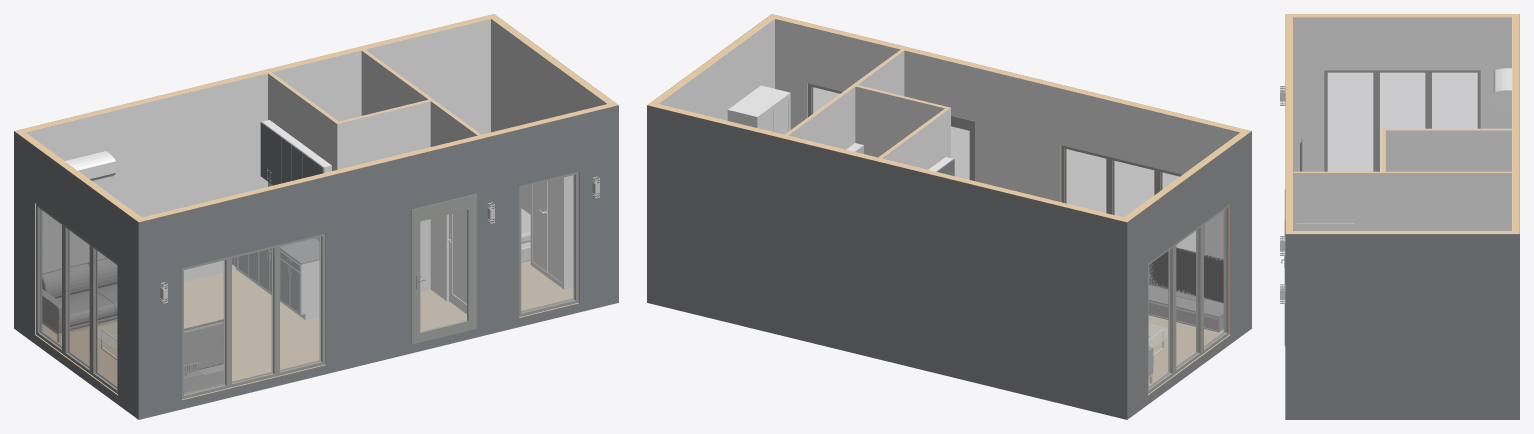
Rendered from Autoramanas_(3,6x8,0m).fbx.
3 views of the same model, side by side, from view 1: azimuth 30°, elevation 25°; view 2: azimuth 150°, elevation 25°; view 3: azimuth 270°, elevation 25° (orthographic). The views are drawn at different scales.
Parts seen in each view (by area): view 1: IfcWall/Part:2319977, IfcWall/Part:2319982, IfcWindow/Aluprof_MB-86-SI_E_Alu_Window-1sash-FIX_ENG_R-000. (×5), IfcWall/Part:2368366, IfcSlab/Part:2319985, IfcDoor/Simple_vitree_-_03:1000x2100:2303655, IfcWall/Part:2319979, IfcWindow/Aluprof_MB-86-SI_E_Alu_Window-1sash-FIX_ENG_R-0004, IfcWindow/Aluprof_MB-86-SI_E_Alu_Window-1sash-FIX_ENG_R-000, IfcWall/Part:2319970, IfcFurnishingElement/Cabinet_-_Storage:960 x 500 x 2100mm:23, IfcFurnishingElement/Bolia - North Seater Sofa:2 1/2 Seater: (+18 smaller); view 2: IfcWall/Part:2319983, IfcWall/Part:2319976, IfcWall/Part:2368366, IfcWindow/Aluprof_MB-86-SI_E_Alu_Window-1sash-FIX_ENG_R-000. (×5), IfcWall/Part:2319979, IfcWall/Part:2319971, IfcWindow/Aluprof_MB-86-SI_E_Alu_Window-1sash-FIX_ENG_R-000, IfcBuildingElementProxy/TV Sony1:TV Sony 2:2368411, IfcWindow/Aluprof_MB-86-SI_E_Alu_Window-1sash-FIX_ENG_R-0004, IfcWall/Part:2321861, IfcFurnishingElement/Cabinet_-_Storage:960 x 500 x 2100mm:23, IfcWall/Part:2319978 (+8 smaller); view 3: IfcWall/Part:2319980, IfcWall/Part:2368365, IfcWall/Part:2319967, IfcWindow/Aluprof_MB-86-SI_E_Alu_Window-1sash-FIX_ENG_R-000. (×3), IfcWall/Part:2321693, IfcWall/Part:2319984, IfcWall/Part:2319978, IfcWall/Part:2368367, IfcEnergyConversionDevice/Fujitsu General_ASUA30-36TLAV2:ASU, IfcWall/Part:2319981, IfcDoor/Simple_vitree_-_03:800x2100mm:2324605, IfcWall/Part:2319969 (+3 smaller).
Part boxes in pixels (left/top/right/bottom): IfcWall/Part:2319977: left=138, top=105, right=618, bottom=419; IfcWall/Part:2319982: left=26, top=18, right=490, bottom=281; IfcWindow/Aluprof_MB-86-SI_E_Alu_Window-1sash-FIX_ENG_R-000. (×5): left=36, top=171, right=578, bottom=399; IfcWall/Part:2368366: left=14, top=131, right=138, bottom=419; IfcSlab/Part:2319985: left=42, top=261, right=572, bottom=385; IfcDoor/Simple_vitree_-_03:1000x2100:2303655: left=411, top=193, right=476, bottom=344; IfcWall/Part:2319979: left=491, top=18, right=607, bottom=214; IfcWindow/Aluprof_MB-86-SI_E_Alu_Window-1sash-FIX_ENG_R-0004: left=228, top=245, right=277, bottom=387; IfcWindow/Aluprof_MB-86-SI_E_Alu_Window-1sash-FIX_ENG_R-000: left=276, top=233, right=325, bottom=376; IfcWall/Part:2319970: left=337, top=101, right=430, bottom=291; IfcFurnishingElement/Cabinet_-_Storage:960 x 500 x 2100mm:23: left=530, top=175, right=572, bottom=289; IfcFurnishingElement/Bolia - North Seater Sofa:2 1/2 Seater:: left=42, top=258, right=117, bottom=342; IfcWall/Part:2319983: left=647, top=105, right=1127, bottom=419; IfcWall/Part:2319976: left=775, top=18, right=1239, bottom=258; IfcWall/Part:2368366: left=1127, top=131, right=1251, bottom=419; IfcWindow/Aluprof_MB-86-SI_E_Alu_Window-1sash-FIX_ENG_R-000. (×5): left=808, top=83, right=1229, bottom=393; IfcWall/Part:2319979: left=658, top=18, right=774, bottom=120; IfcWall/Part:2319971: left=855, top=86, right=944, bottom=157; IfcWindow/Aluprof_MB-86-SI_E_Alu_Window-1sash-FIX_ENG_R-000: left=1061, top=145, right=1109, bottom=213; IfcBuildingElementProxy/TV Sony1:TV Sony 2:2368411: left=1148, top=247, right=1223, bottom=302; IfcWindow/Aluprof_MB-86-SI_E_Alu_Window-1sash-FIX_ENG_R-0004: left=1108, top=156, right=1156, bottom=217; IfcWall/Part:2321861: left=788, top=86, right=855, bottom=149; IfcFurnishingElement/Cabinet_-_Storage:960 x 500 x 2100mm:23: left=727, top=85, right=790, bottom=134; IfcWall/Part:2319978: left=775, top=16, right=1250, bottom=201; IfcWall/Part:2319980: left=1285, top=234, right=1519, bottom=419; IfcWall/Part:2368365: left=1293, top=17, right=1511, bottom=171; IfcWall/Part:2319967: left=1293, top=173, right=1511, bottom=230; IfcWindow/Aluprof_MB-86-SI_E_Alu_Window-1sash-FIX_ENG_R-000. (×3): left=1324, top=70, right=1480, bottom=171; IfcWall/Part:2321693: left=1385, top=130, right=1511, bottom=171; IfcWall/Part:2319984: left=1512, top=14, right=1519, bottom=233; IfcWall/Part:2319978: left=1285, top=14, right=1292, bottom=230; IfcWall/Part:2368367: left=1293, top=14, right=1512, bottom=17; IfcEnergyConversionDevice/Fujitsu General_ASUA30-36TLAV2:ASU: left=1493, top=68, right=1511, bottom=110; IfcWall/Part:2319981: left=1285, top=231, right=1512, bottom=233; IfcDoor/Simple_vitree_-_03:800x2100mm:2324605: left=1296, top=223, right=1354, bottom=230; IfcWall/Part:2319969: left=1293, top=171, right=1512, bottom=172.
Size of the model in its own units: 800 by 315 by 368.
